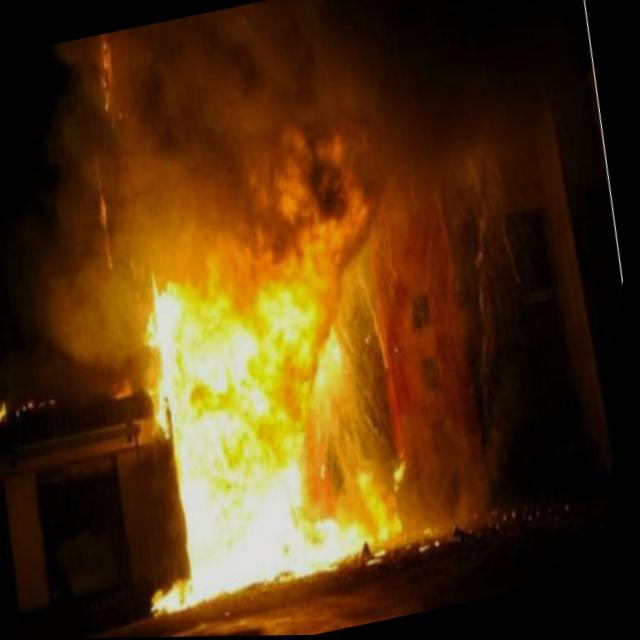fire: (73, 133, 452, 630), (82, 35, 129, 118), (0, 393, 21, 431)
